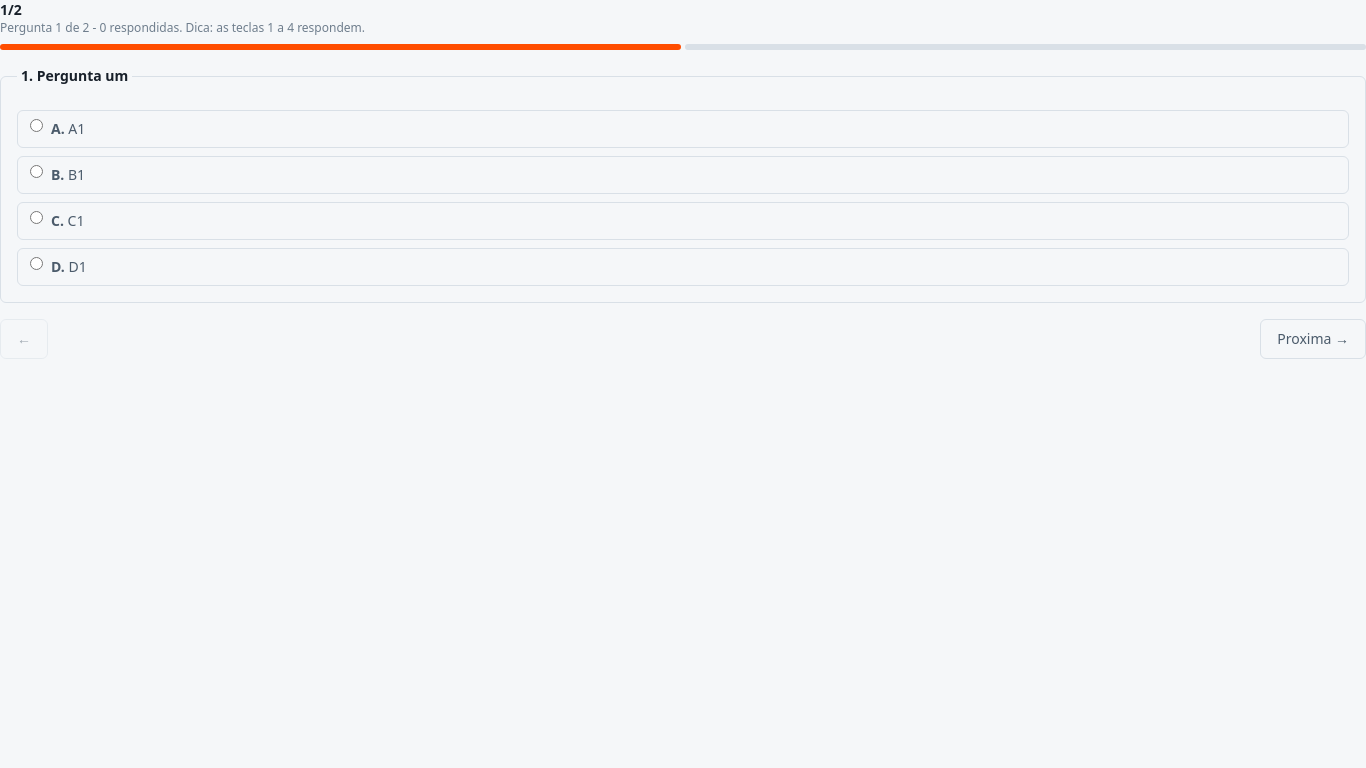
Scenario: QuizPanel › shows one question at a time and the full result in a modal
Expected: the text "1. Pergunta um" is shown, 17,66 -> 132,86
Expected: the text "Pergunta dois" is not shown
Click the radio button labelled "A. A1". click: (36, 126)
box: 30,119 -> 43,132
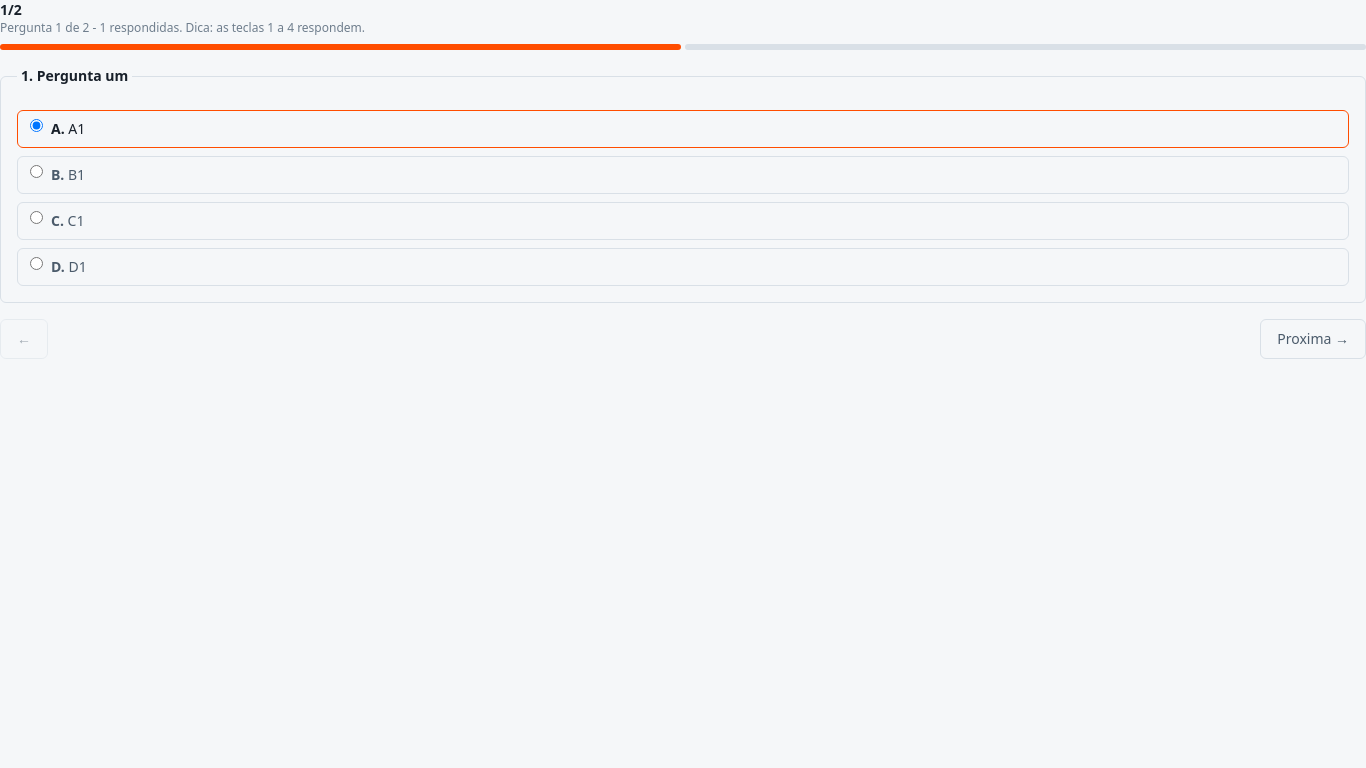
Click the button with aria-label "Proxima pergunta". click: (1313, 339)
box: 1260,319 -> 1365,359
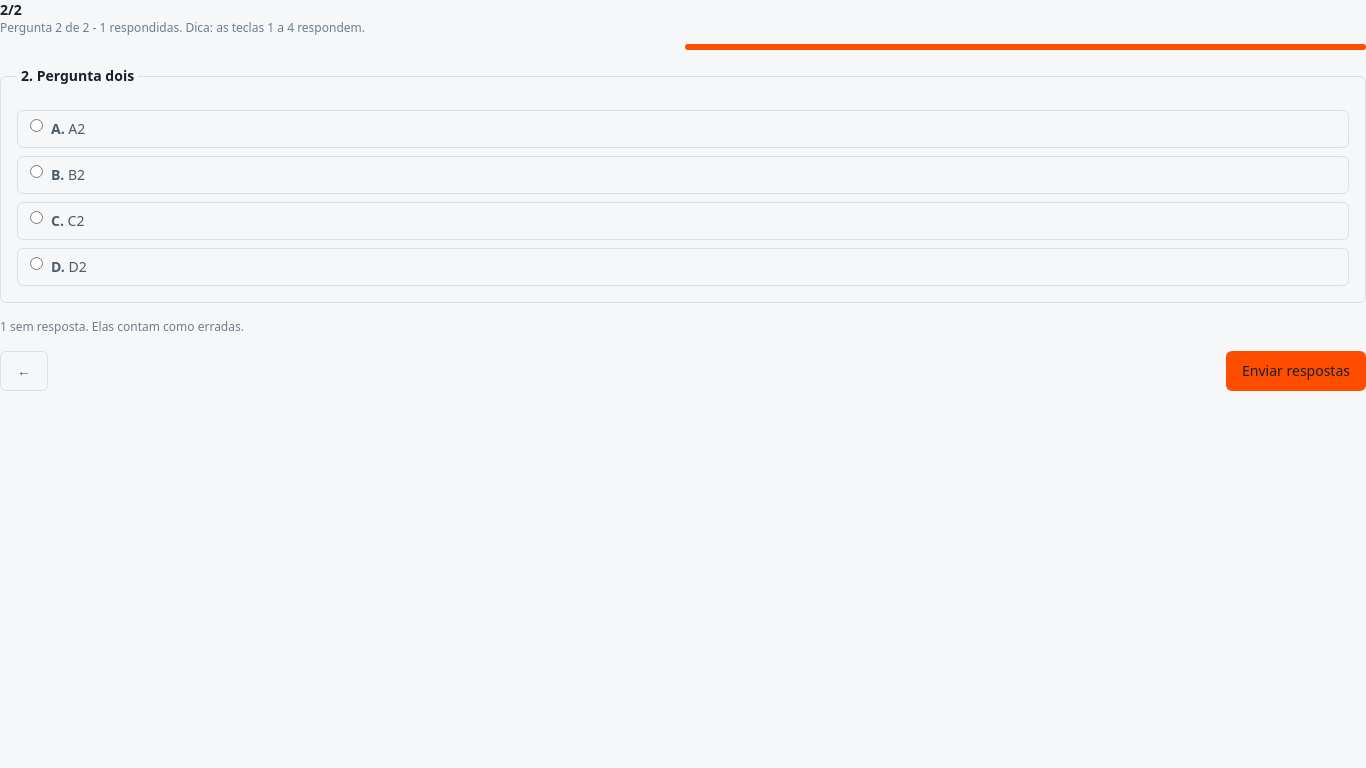
Expected: the text "2. Pergunta dois" is shown, 17,66 -> 138,86
Click the radio button labelled "C. C2". click: (36, 218)
box: 30,211 -> 43,224
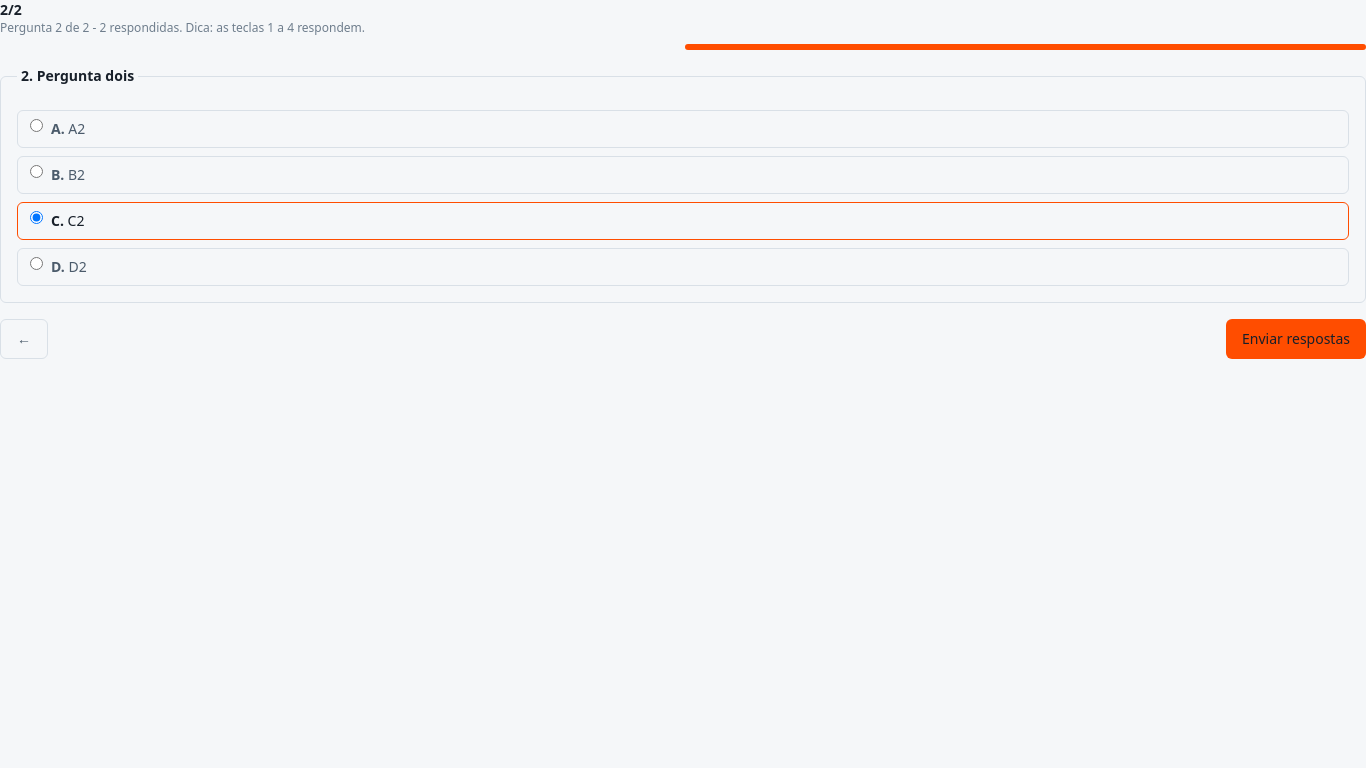
Click the button "Enviar respostas". click: (1296, 339)
box: 1226,319 -> 1365,359
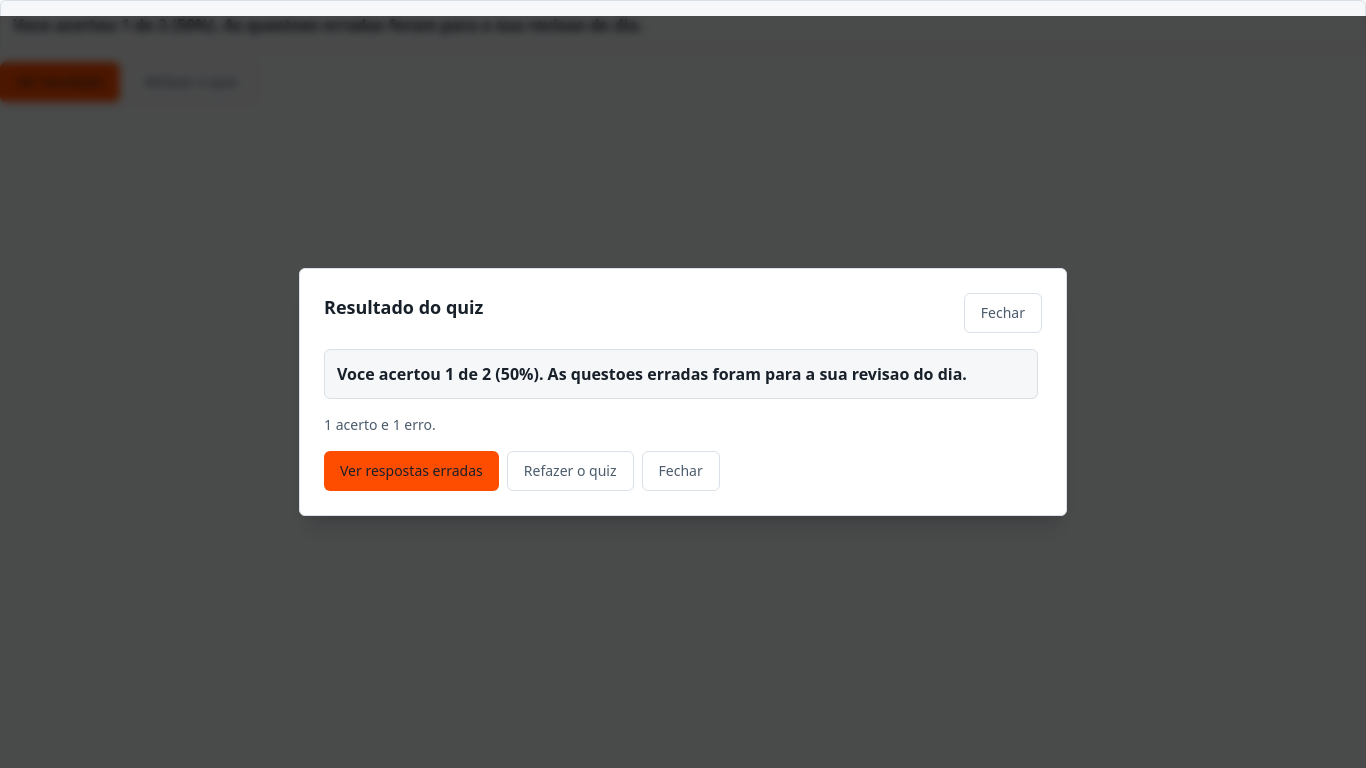
Expected: the dialog "Resultado do quiz" is shown, 299,268 -> 1067,516
Expected: the 1st text "Voce acertou 1 de 2" is shown, 13,14 -> 643,36
Click the button "Ver respostas erradas". click: (411, 471)
box: 324,451 -> 499,491
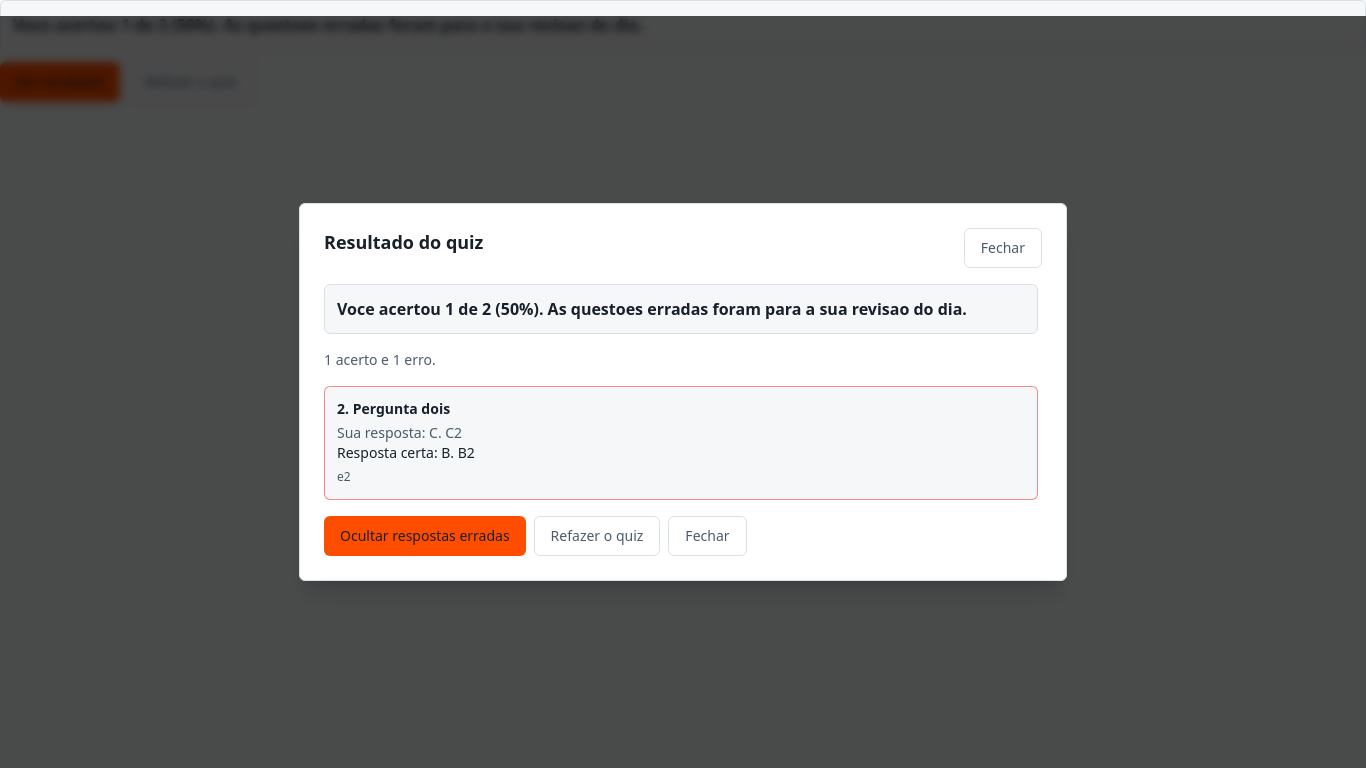
Expected: the text "Sua resposta: C. C2" is shown, 337,423 -> 462,442
Expected: the text "Resposta certa: B. B2" is shown, 337,443 -> 475,462
